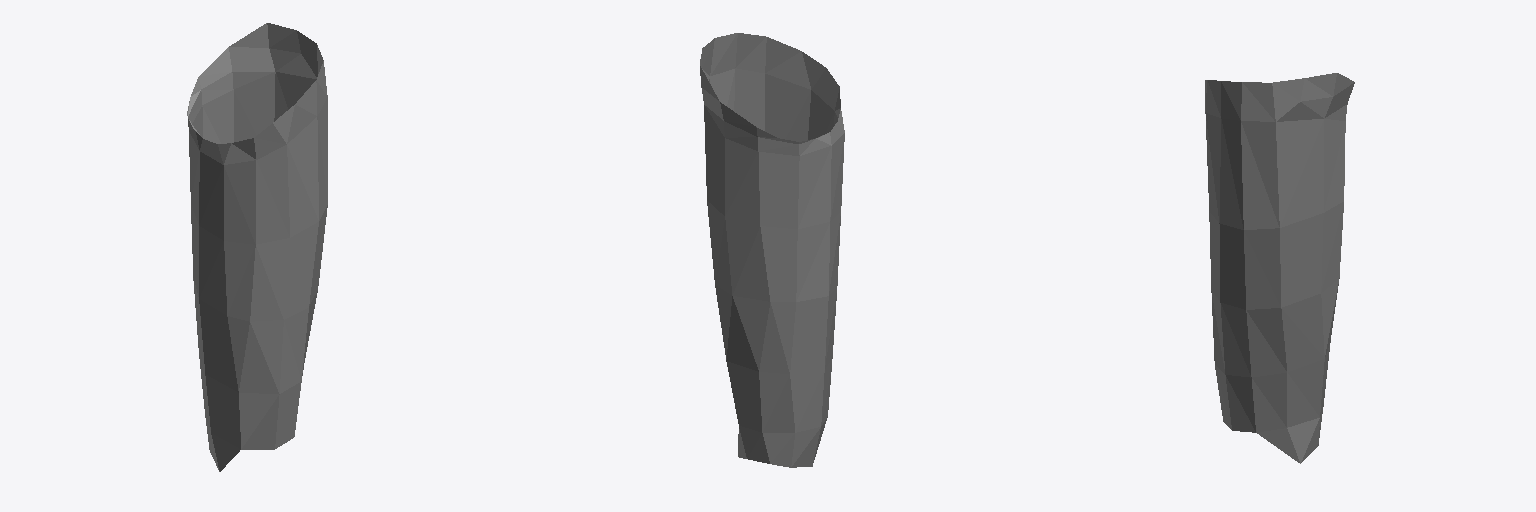
The model's file is Lily_Pierna_1.obj.
The picture shows the model from 3 angles: view 1: azimuth 30°, elevation 25°; view 2: azimuth 150°, elevation 25°; view 3: azimuth 270°, elevation 25°; orthographic projection.
Visible parts, largest first — view 1: 2_Mesh.014; view 2: 2_Mesh.014; view 3: 2_Mesh.014.
Boxes of the visible parts, x1=… form: 2_Mesh.014: x1=187, y1=23, x2=327, y2=471; 2_Mesh.014: x1=700, y1=33, x2=844, y2=467; 2_Mesh.014: x1=1205, y1=73, x2=1354, y2=463.
Size of the model in its own units: 0.1233 by 0.3998 by 0.1338.